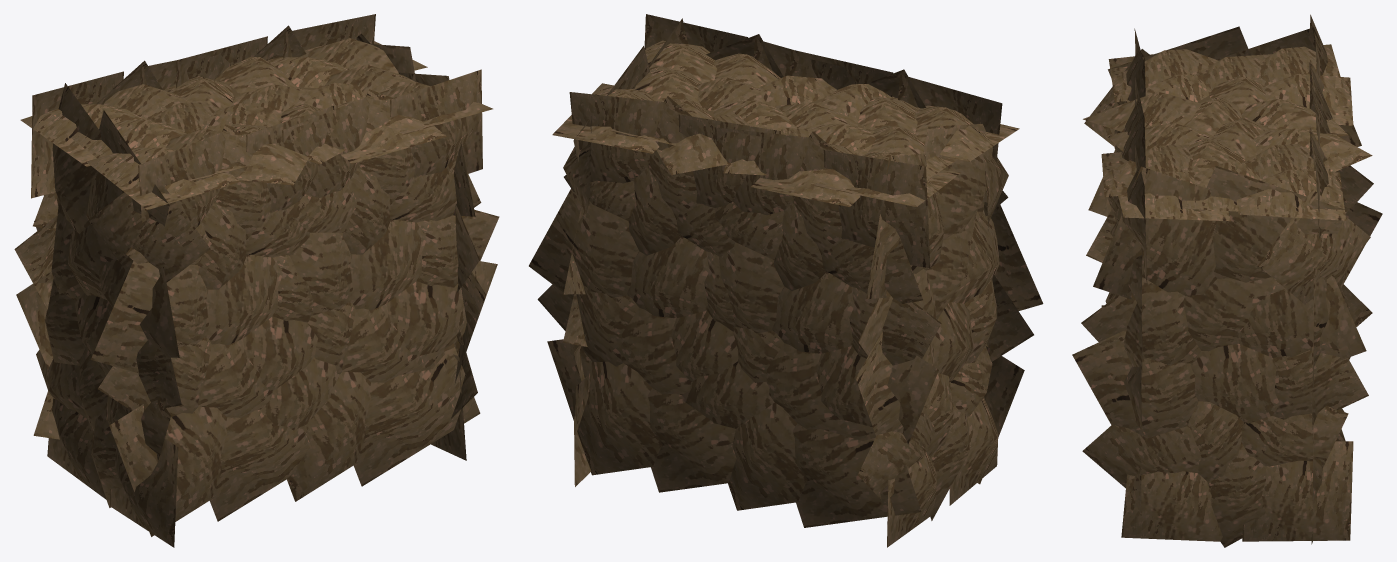
Rendered from bush_2x2.glb.
3 renders of one model, left to right at view 1: azimuth 30°, elevation 25°; view 2: azimuth 150°, elevation 25°; view 3: azimuth 270°, elevation 25°, orthographic. The views are drawn at different scales.
Parts seen in each view (by area): view 1: Bush_2x2_Cube.024; view 2: Bush_2x2_Cube.024; view 3: Bush_2x2_Cube.024.
Boxes of the visible parts, x1,y1,x2,y2 form: Bush_2x2_Cube.024: [14, 14, 499, 547]; Bush_2x2_Cube.024: [529, 14, 1043, 547]; Bush_2x2_Cube.024: [1072, 14, 1382, 547].
Bounding box in the file's own units: 1.8 × 1.63 × 1.19.
Materials: 1 (1 with a texture image).
